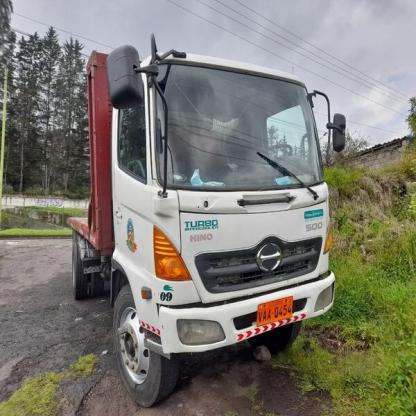Placa: (254, 293, 297, 327)
